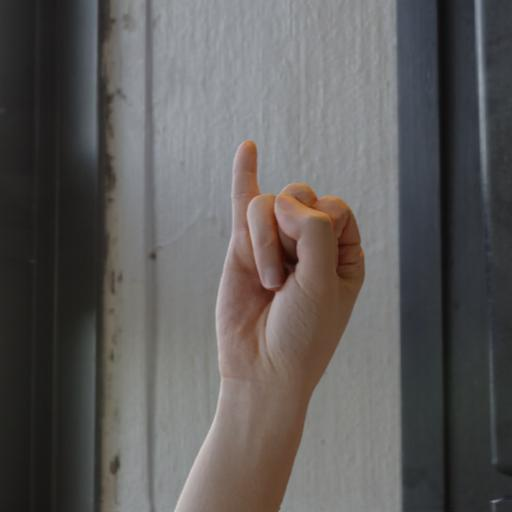I: (191, 123, 373, 401)
